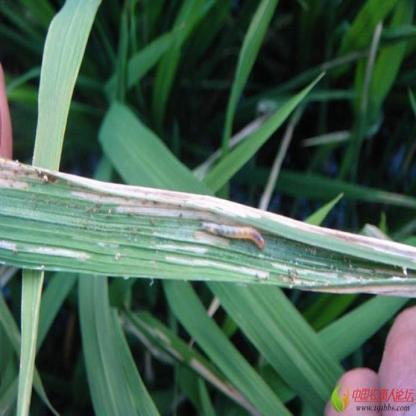leaf-folder: (192, 198, 282, 271)
